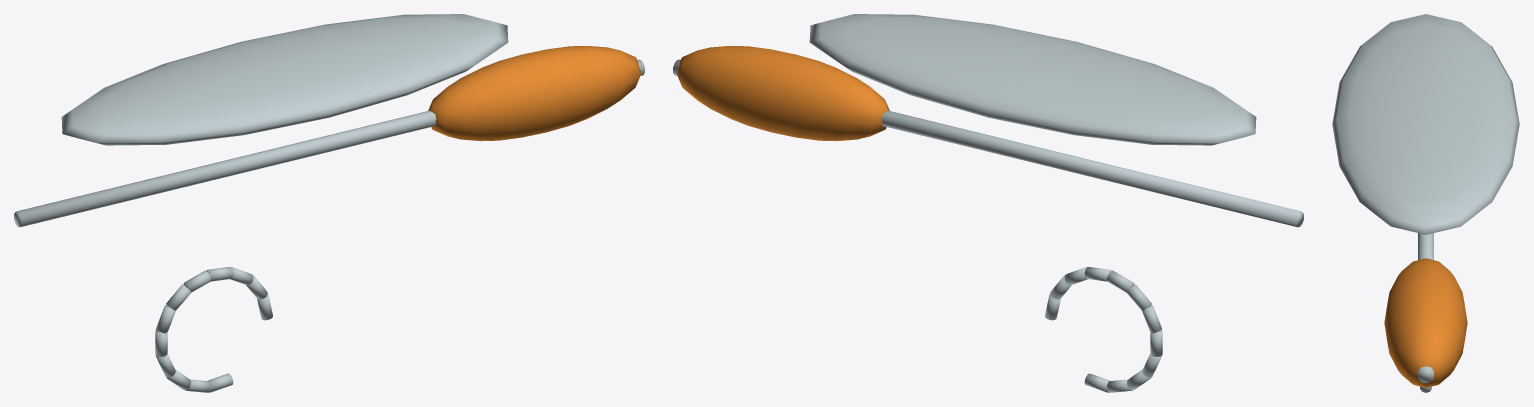
Rendered from SM_Spinner.fbx.
3 views of the same model, side by side, from view 1: azimuth 30°, elevation 25°; view 2: azimuth 150°, elevation 25°; view 3: azimuth 270°, elevation 25° (orthographic).
Parts seen in each view (by area): view 1: SM_Spinner; view 2: SM_Spinner; view 3: SM_Spinner.
Part boxes in pixels (box(x1,y1,x2,y2)): SM_Spinner: box(14, 14, 644, 392); SM_Spinner: box(673, 14, 1303, 392); SM_Spinner: box(1332, 14, 1519, 392).
Bounding box in the file's own units: 7 × 1.8 × 3.36.
